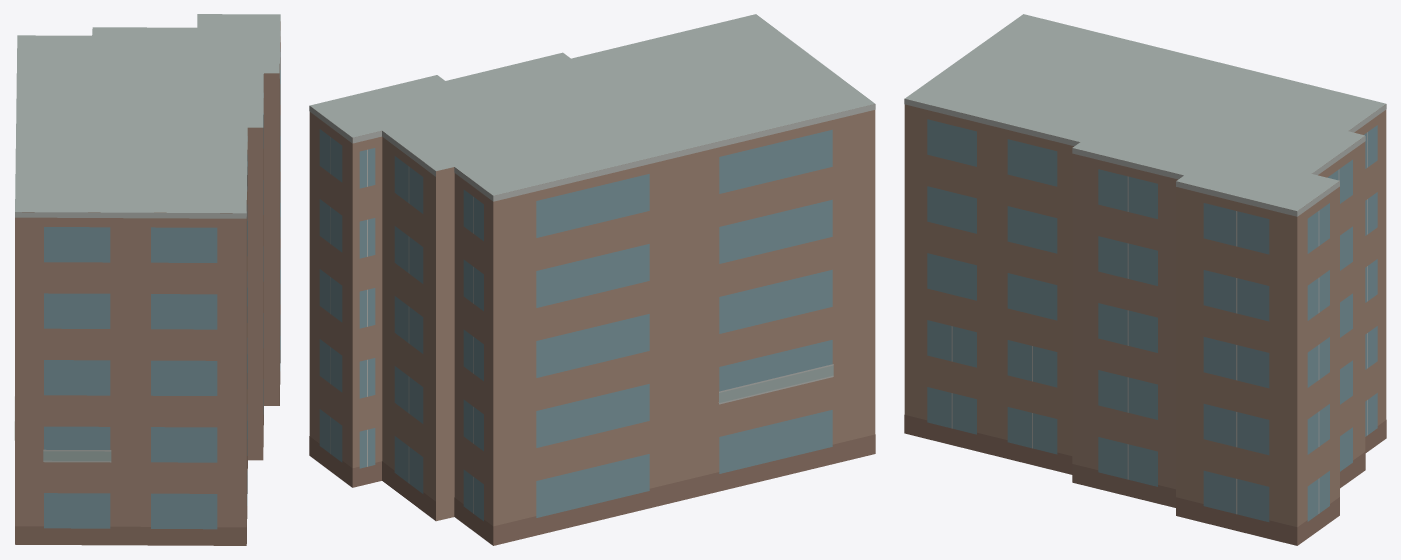
The model's file is survey-upis-32753122.glb.
3 views of the same model, side by side, from view 1: azimuth 30°, elevation 25°; view 2: azimuth 150°, elevation 25°; view 3: azimuth 270°, elevation 25° (orthographic). The views are drawn at different scales.
Parts seen in each view (by area): view 1: survey-upis-32753122.tmp; view 2: survey-upis-32753122.tmp; view 3: survey-upis-32753122.tmp.
Part boxes in pixels (bbox=[...]): survey-upis-32753122.tmp: bbox=[14, 14, 280, 545]; survey-upis-32753122.tmp: bbox=[309, 14, 875, 545]; survey-upis-32753122.tmp: bbox=[904, 14, 1386, 545].
Size of the model in its own units: 18.4 by 14.55 by 19.
